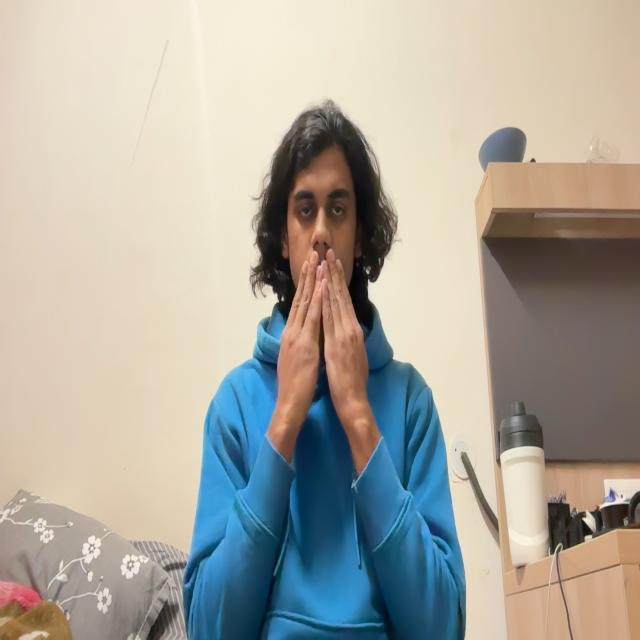Thanks: (270, 241, 389, 464)
